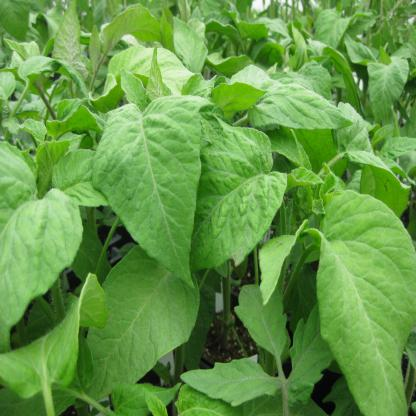Tomato leaf: (88, 79, 203, 289), (235, 60, 350, 131)
